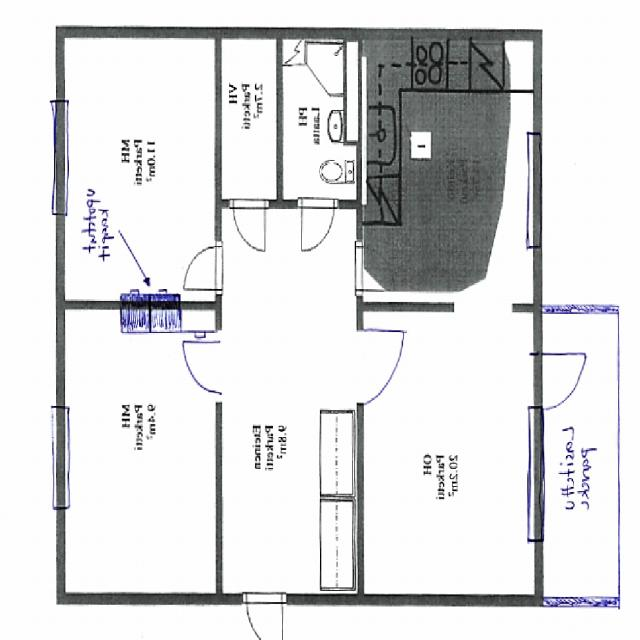door: (534, 356, 584, 412), (356, 346, 402, 398), (356, 249, 398, 297), (181, 346, 222, 391), (182, 247, 222, 291), (244, 595, 283, 640), (234, 200, 265, 251), (302, 200, 333, 251)
